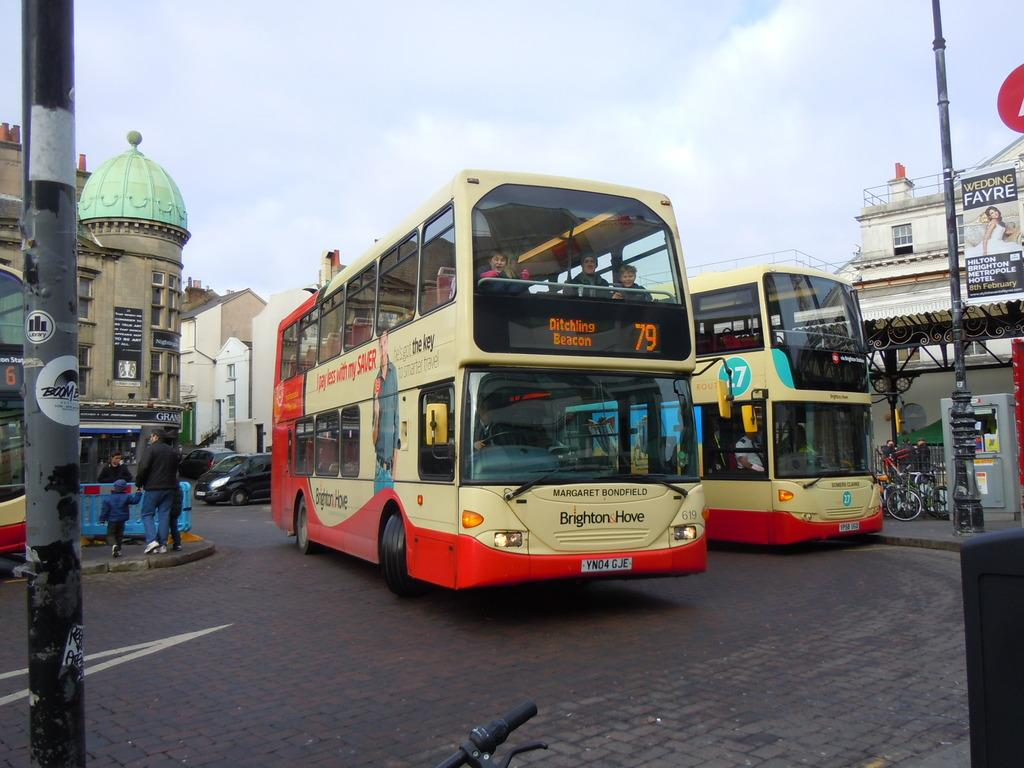Bus: (272, 166, 740, 595), (555, 250, 906, 552)
